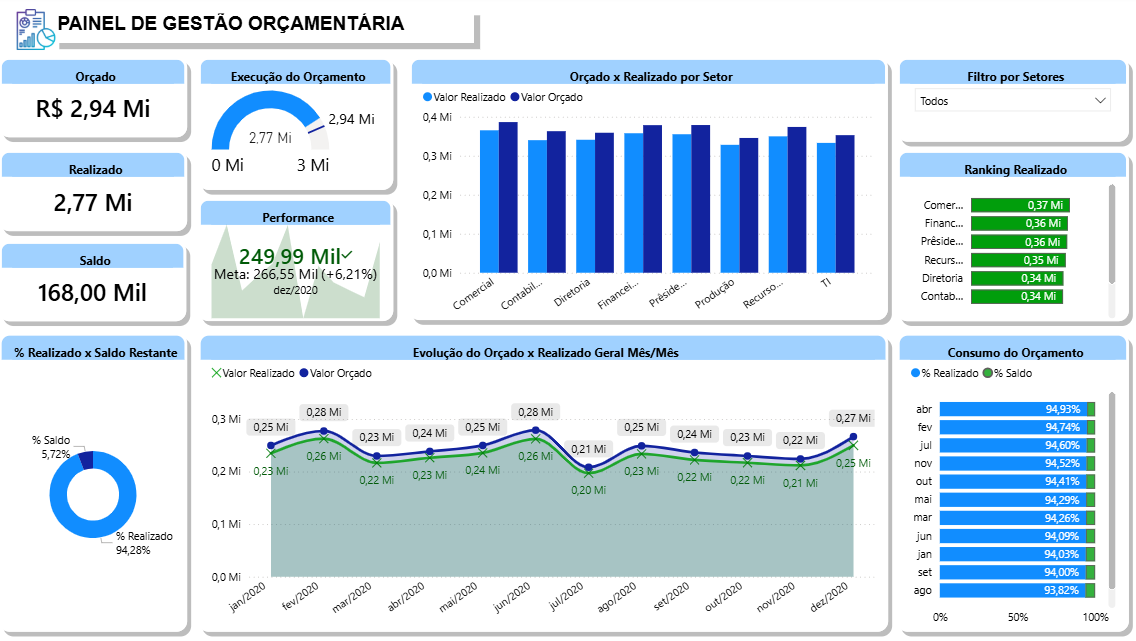

This screenshot's page, from the dashboard's own definition file:
{"tool":"powerbi","page":{"name":"Painel","canvas":[1280,720],"ordinal":2},"visuals":[{"type":"card","title":"Orçado","fields":{"Values":["00_Medidas.01_Valor Orçado"]},"box":[0,63.9,210.8,89.7],"z":0},{"type":"card","title":"Realizado","fields":{"Values":["00_Medidas.02 Valor Realizado"]},"box":[0,168.2,210.8,90.8],"z":1000},{"type":"card","title":"Saldo","fields":{"Values":["00_Medidas.05 $ saldo"]},"box":[0,270.3,209.7,89.7],"z":2000},{"type":"gauge","title":"Execução do Orçamento","fields":{"TargetValue":["00_Medidas.01_Valor Orçado"],"Y":["00_Medidas.02 Valor Realizado"],"MaxValue":["00_Medidas.06 Valor maximo"]},"box":[223.2,63.9,218.7,149.2],"z":3000},{"type":"kpi","title":"Performance","fields":{"Indicator":["00_Medidas.02 Valor Realizado"],"Goal":["00_Medidas.01_Valor Orçado"],"TrendLine":["Dim_Calendario.Mes/Ano"]},"box":[223.2,222.1,218.7,137.9],"z":4000},{"type":"clusteredColumnChart","title":"Orçado x Realizado por Setor","fields":{"Y":["00_Medidas.02 Valor Realizado","00_Medidas.01_Valor Orçado"],"Category":["Dim_Centro_Custo.Centro de Custos","Dim_Calendario.Mes/Ano"]},"box":[459.8,63.9,537.2,295],"z":5000},{"type":"barChart","title":"Ranking Realizado","fields":{"Category":["Dim_Centro_Custo.Centro de Custos"],"Y":["00_Medidas.02 Valor Realizado"]},"box":[1007.1,168.2,260.2,191.8],"z":6000},{"type":"donutChart","title":"% Realizado x Saldo Restante","fields":{"Y":["00_Medidas.03 % Realizado","00_Medidas.04 % Saldo"]},"box":[0,373.5,210.8,335.3],"z":7000},{"type":"lineChart","title":"Evolução do Orçado x Realizado Geral Mês/Mês","fields":{"Category":["Dim_Calendario.Mes/Ano"],"Y":["00_Medidas.02 Valor Realizado","00_Medidas.01_Valor Orçado"]},"box":[223.2,373.5,773.8,335.3],"z":8000},{"type":"barChart","title":"Consumo do Orçamento","fields":{"Category":["Dim_Calendario.Mes_Abrev"],"Y":["00_Medidas.03 % Realizado","00_Medidas.04 % Saldo"]},"box":[1007.1,373.5,260.2,335.3],"z":9000},{"type":"textbox","box":[60.6,10.1,472.1,38.1],"z":10000},{"type":"slicer","title":"Filtro por Setores","fields":{"Values":["Dim_Centro_Custo.Centro de Custos"]},"box":[1007.1,63.9,260.2,95.3],"z":11000},{"type":"image","box":[0,10.1,83,46],"z":12000}]}

Visuals, with their boxes in screenshot pixels (x1, y1, x2, y2), scaled from the page's 1280x720 canvas onto the 1136x641 screenshot:
"Orçado" card: box=[0, 57, 187, 137]
"Realizado" card: box=[0, 150, 187, 231]
"Saldo" card: box=[0, 241, 186, 320]
"Execução do Orçamento" gauge: box=[198, 57, 392, 190]
"Performance" kpi: box=[198, 198, 392, 320]
"Orçado x Realizado por Setor" clusteredColumnChart: box=[408, 57, 885, 320]
"Ranking Realizado" barChart: box=[894, 150, 1125, 320]
"% Realizado x Saldo Restante" donutChart: box=[0, 333, 187, 631]
"Evolução do Orçado x Realizado Geral Mês/Mês" lineChart: box=[198, 333, 885, 631]
"Consumo do Orçamento" barChart: box=[894, 333, 1125, 631]
textbox: box=[54, 9, 473, 43]
"Filtro por Setores" slicer: box=[894, 57, 1125, 142]
image: box=[0, 9, 74, 50]
